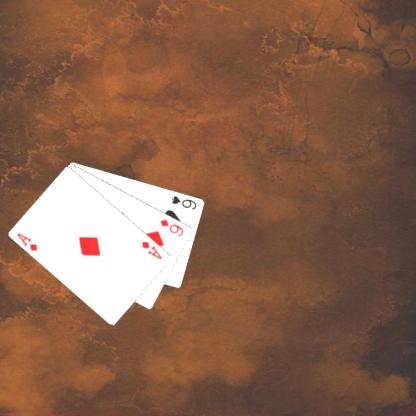6D: (158, 216, 185, 238)
6S: (169, 192, 198, 210)
AD: (139, 238, 164, 261), (14, 230, 39, 252)
